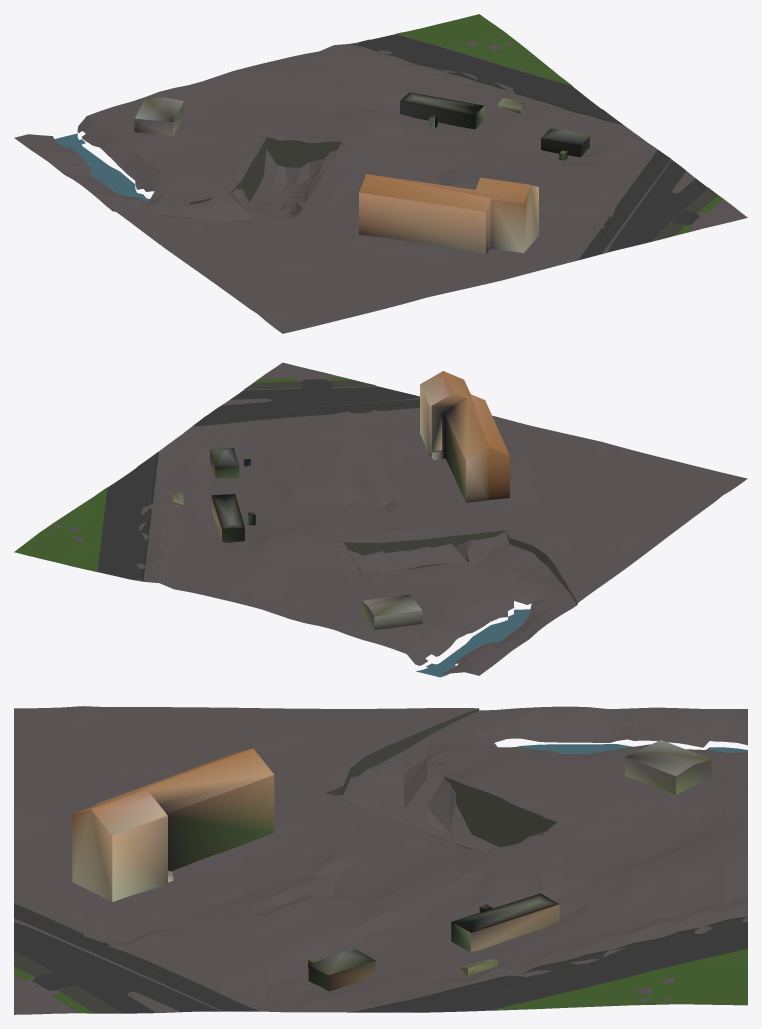
3 views of the same model, one above another, from view 1: azimuth 30°, elevation 25°; view 2: azimuth 150°, elevation 25°; view 3: azimuth 270°, elevation 25° (orthographic). The views are drawn at different scales.
Visible parts, largest first — view 1: c_m20_p03; view 2: c_m20_p03; view 3: c_m20_p03.
Part boxes in pixels (x1,y1,x2,y2): c_m20_p03: (14, 14, 747, 333); c_m20_p03: (14, 362, 747, 677); c_m20_p03: (14, 706, 747, 1014).
Bounding box in the file's own units: 128 × 24.07 × 128.
